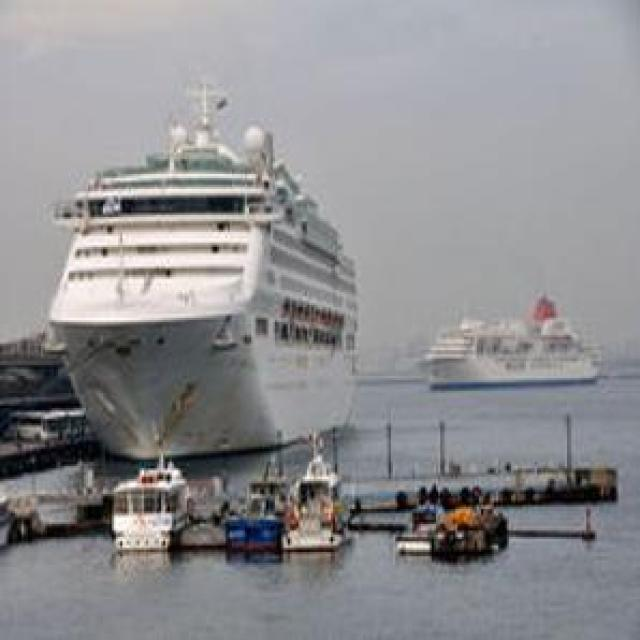fishing boat: (430, 499, 510, 559)
houseboat: (392, 495, 446, 558)
passenger ship: (54, 77, 357, 453), (419, 294, 603, 388), (104, 458, 189, 556), (279, 455, 350, 553)
